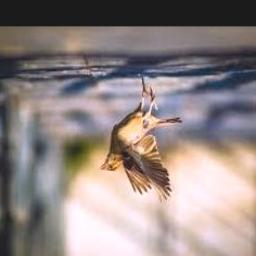Sparrow: (100, 74, 181, 203)
